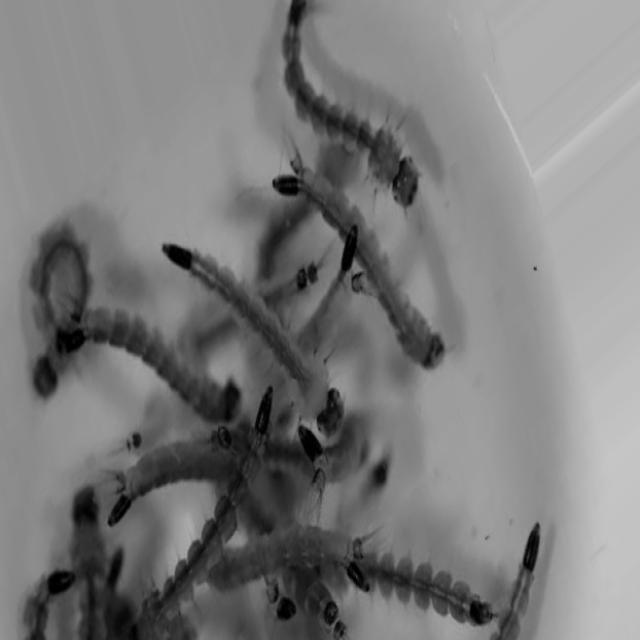larvas: (269, 144, 458, 381), (166, 223, 358, 448), (126, 392, 288, 640), (257, 14, 430, 222), (71, 288, 259, 443), (98, 425, 216, 538), (213, 521, 372, 600), (370, 535, 499, 629), (27, 488, 103, 640), (27, 222, 84, 387), (298, 230, 367, 361), (485, 511, 554, 640), (283, 569, 372, 640), (246, 197, 303, 284), (256, 262, 322, 322)
